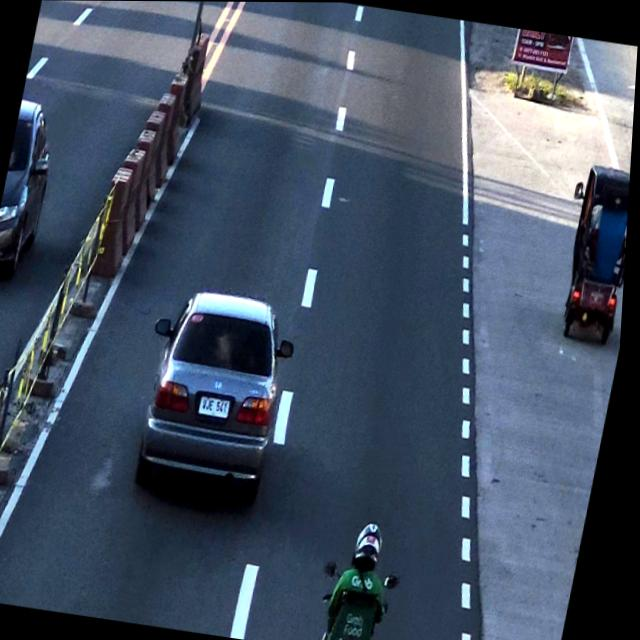Car: (135, 283, 302, 497)
License-Plate: (200, 389, 236, 422)
Motorcycle: (324, 523, 415, 640)
